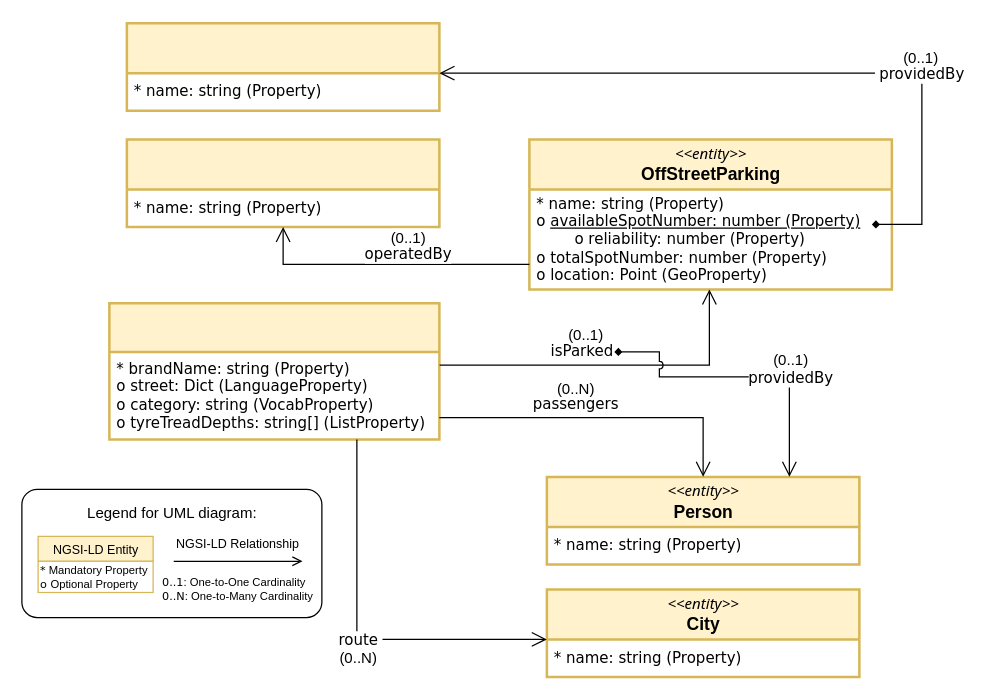
The diagram is 985 pixels wide and 699 high, and some of its shapes have lost their labels. The box of each missing label's shape, as (x1, y1, x2, y2) in pixels:
<<entity>> Camera: (125, 21, 440, 111)
<<entity>> Company: (125, 138, 440, 228)
<<entity>> Vehicle: (108, 301, 440, 440)
